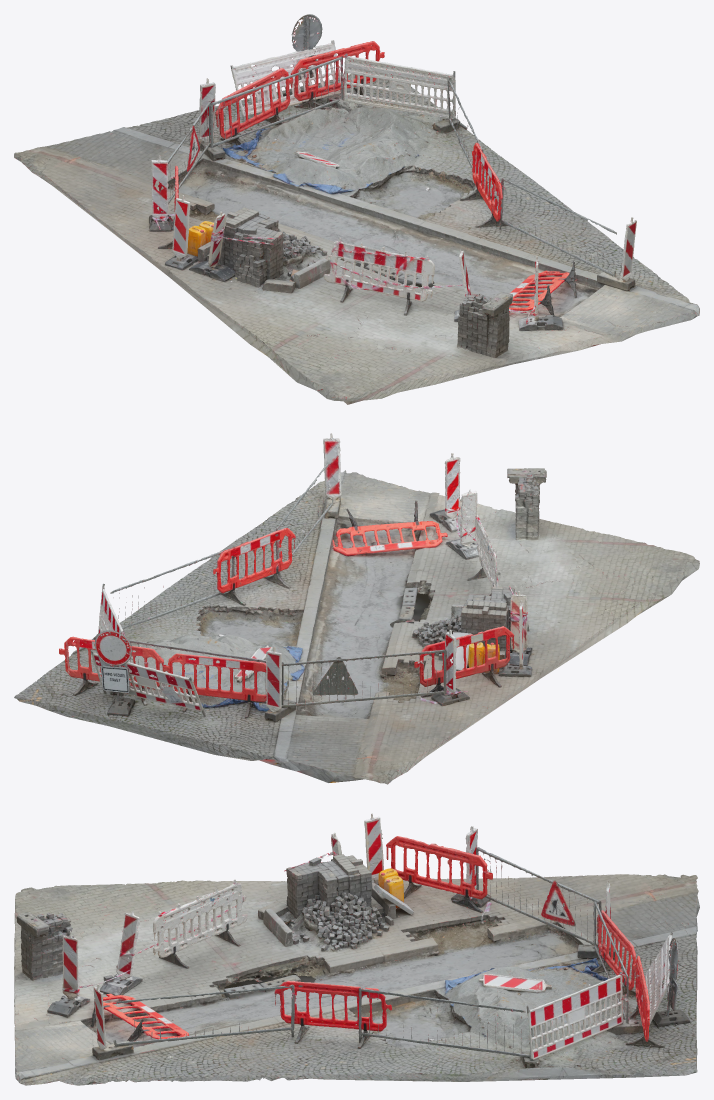
File: sf-pipeline-construction-site-6829dd.glb
3 renders of one model, top to bottom at view 1: azimuth 30°, elevation 25°; view 2: azimuth 150°, elevation 25°; view 3: azimuth 270°, elevation 25°, orthographic. The views are drawn at different scales.
Parts seen in each view (by area): view 1: meshNode_Material_u1_v1_0, meshNode_Material_u1_v2_0, meshNode_Material_u2_v1_0; view 2: meshNode_Material_u1_v1_0, meshNode_Material_u2_v1_0, meshNode_Material_u1_v2_0; view 3: meshNode_Material_u1_v1_0, meshNode_Material_u2_v1_0, meshNode_Material_u1_v2_0.
Boxes of the visible parts, x1,y1,x2,y2 form: meshNode_Material_u1_v1_0: (14, 14, 699, 399); meshNode_Material_u1_v2_0: (14, 40, 699, 401); meshNode_Material_u2_v1_0: (56, 14, 682, 404); meshNode_Material_u1_v1_0: (19, 433, 699, 784); meshNode_Material_u2_v1_0: (15, 447, 682, 764); meshNode_Material_u1_v2_0: (14, 444, 699, 784); meshNode_Material_u1_v1_0: (14, 813, 696, 1085); meshNode_Material_u2_v1_0: (14, 836, 696, 1085); meshNode_Material_u1_v2_0: (14, 814, 699, 1085).
Size of the model in its own units: 7.21 by 1.84 by 10.77.
Materials: 3 (3 with a texture image).
